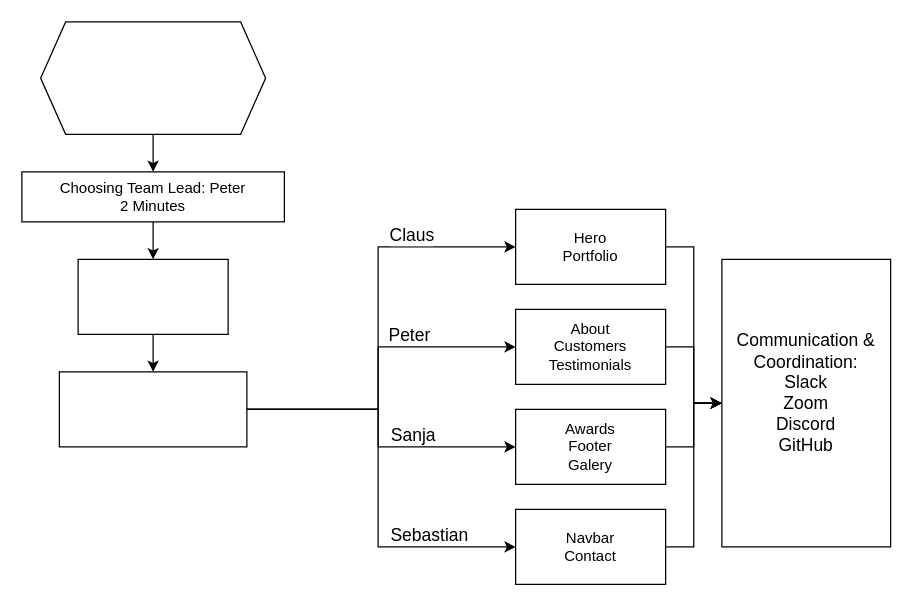
This 913x606 diagram has some shape labels left out. The shapes that lost their labels are listed below. From the top down, each one's centre as x and y in pixels, then its label:
At (152,77): "Monday: Team Assembly Claus, Peter Sanja, Sebastian".
At (152,296): "Choosing Project: C 5 Seconds".
At (152,409): "Create Trello Board 1 hour Deciding who does what".
